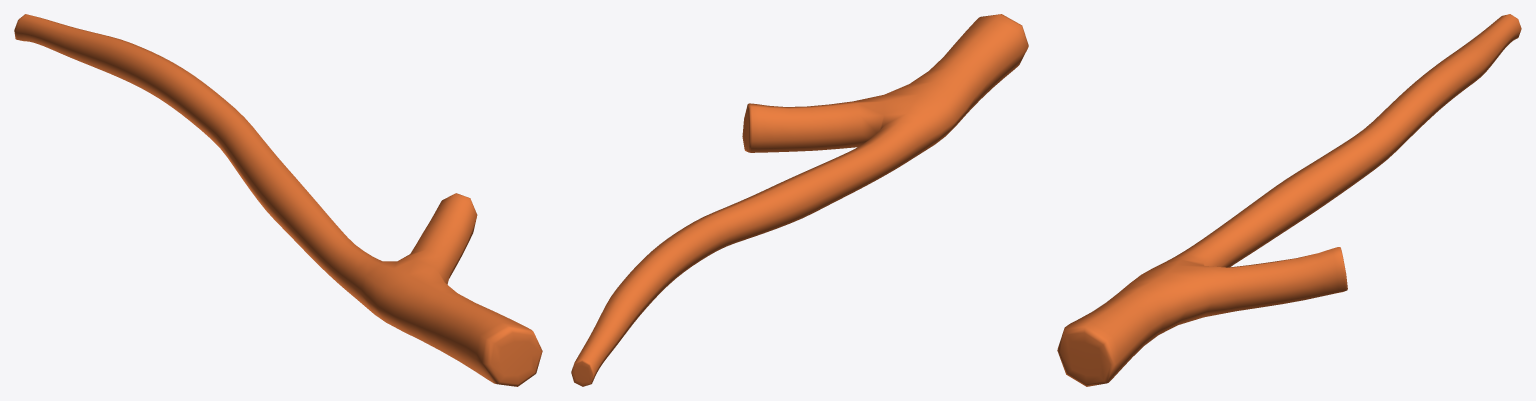
File: Twig1.glb
3 views of the same model, side by side, from view 1: azimuth 30°, elevation 25°; view 2: azimuth 150°, elevation 25°; view 3: azimuth 330°, elevation 25° (orthographic). The views are drawn at different scales.
Visible parts, largest first — view 1: twig_9_twig_9_0; view 2: twig_9_twig_9_0; view 3: twig_9_twig_9_0.
Part boxes in pixels (left/top/right/bottom): twig_9_twig_9_0: left=14, top=14, right=542, bottom=386; twig_9_twig_9_0: left=571, top=14, right=1028, bottom=386; twig_9_twig_9_0: left=1057, top=14, right=1521, bottom=386.
Bounding box in the file's own units: 0.3627 × 0.1428 × 1.83.
